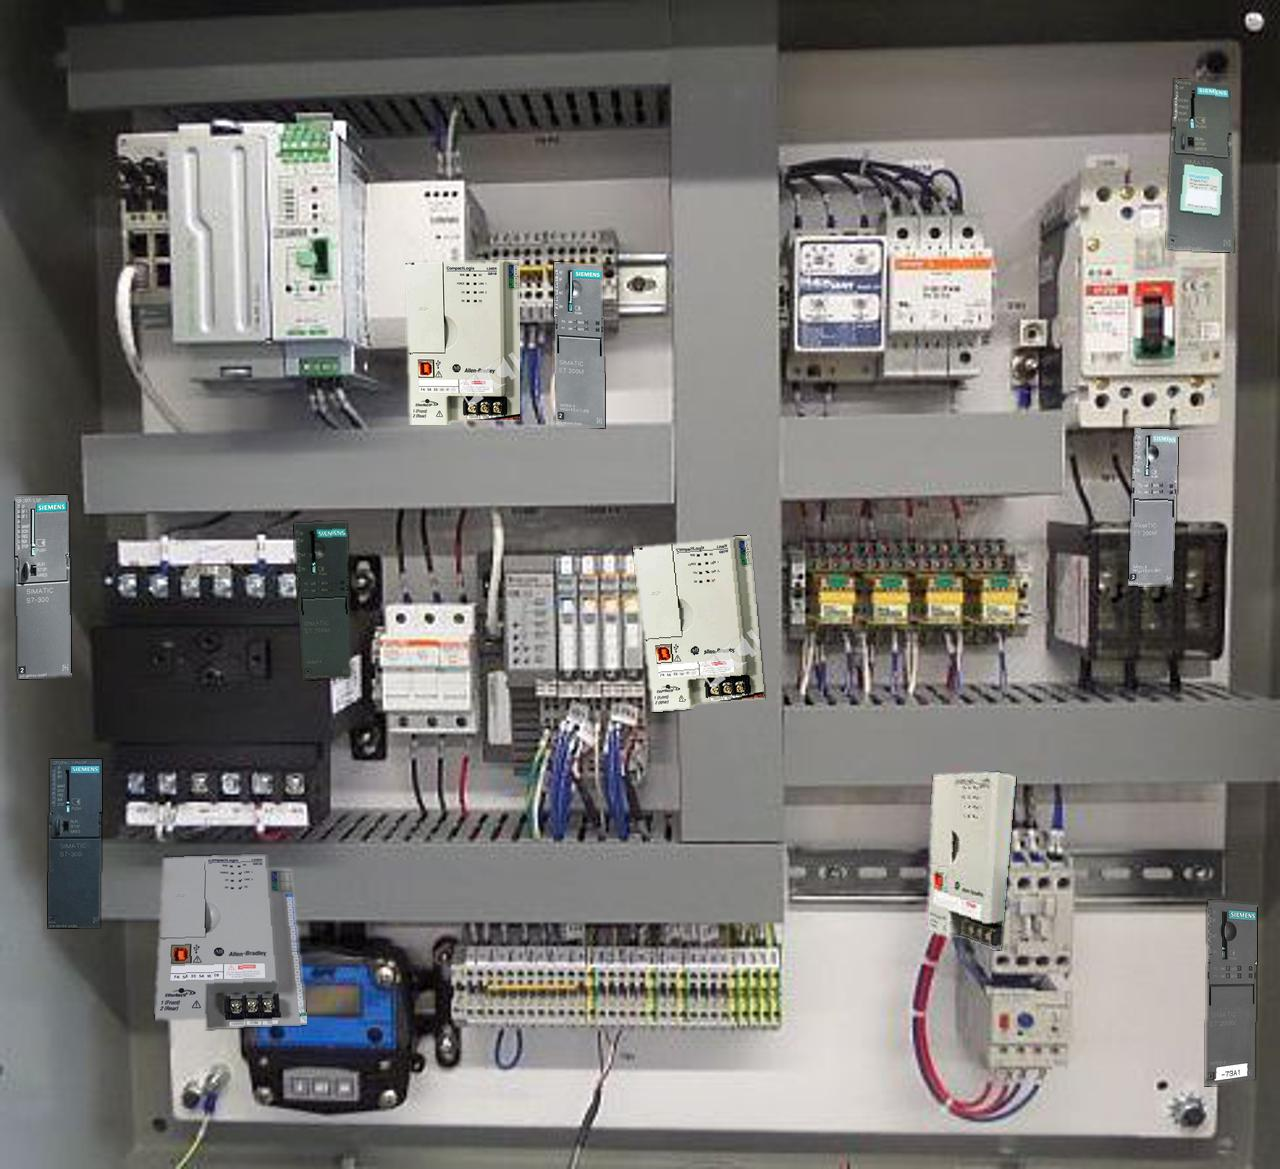AllenBradley: (155, 856, 306, 1028), (633, 535, 764, 711), (405, 260, 518, 424), (927, 772, 1015, 949)
Siemens: (1167, 78, 1233, 252), (14, 495, 71, 678), (48, 759, 101, 927)
